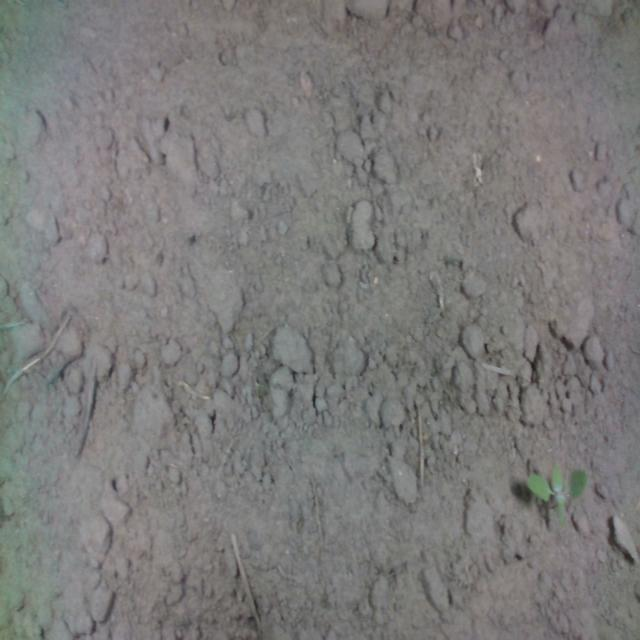weed: (524, 456, 590, 524)
